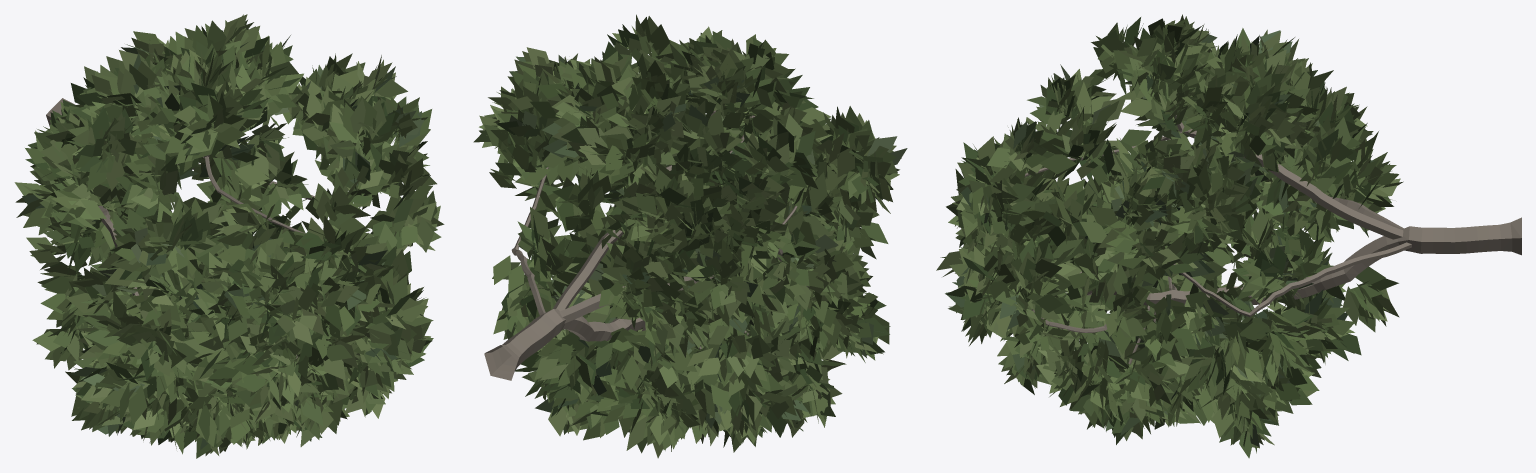
File: tree_mid_11.obj
The picture shows the model from 3 angles, left to right: view 1: azimuth 30°, elevation 25°; view 2: azimuth 150°, elevation 25°; view 3: azimuth 270°, elevation 25°; orthographic projection.
Parts seen in each view (by area): view 1: tree_mid_11; view 2: tree_mid_11; view 3: tree_mid_11.
Part boxes in pixels (bbox=[...]): tree_mid_11: bbox=[14, 14, 444, 458]; tree_mid_11: bbox=[473, 14, 907, 458]; tree_mid_11: bbox=[936, 14, 1521, 458].
Size of the model in its own units: 0.7283 by 0.7762 by 1.02.
1 material, 1 textured.
